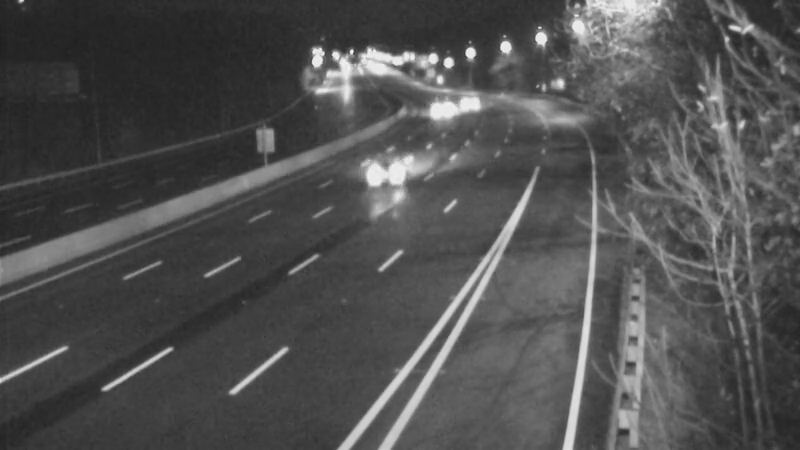vehicle: (350, 131, 430, 211), (442, 75, 492, 125), (411, 81, 461, 131)
